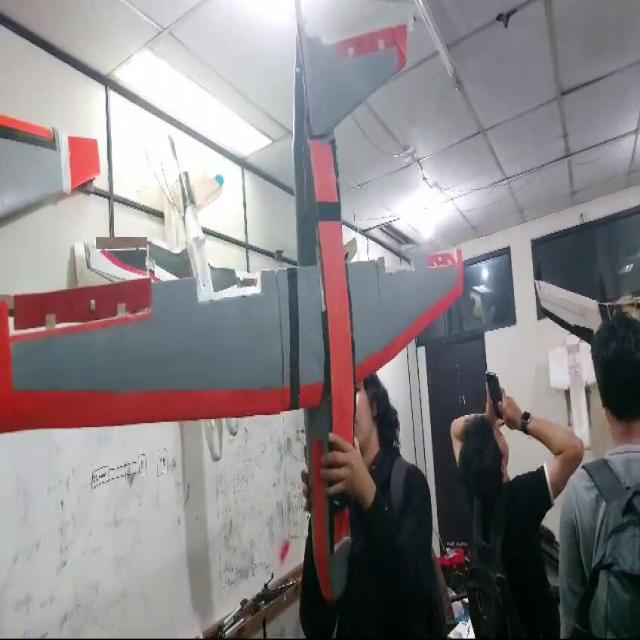plane: (0, 0, 466, 603)
